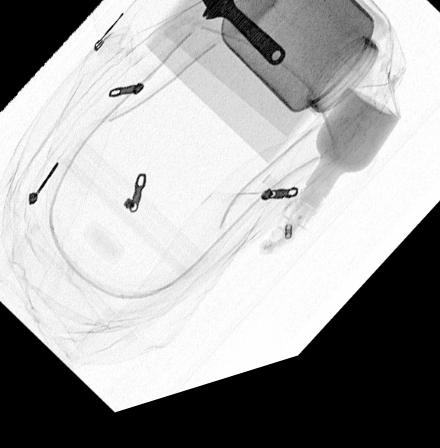Wrench: (199, 0, 287, 82)
